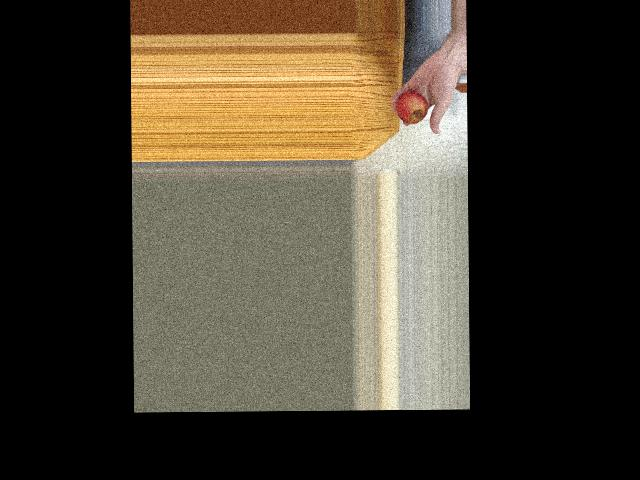apple: (395, 85, 428, 126)
